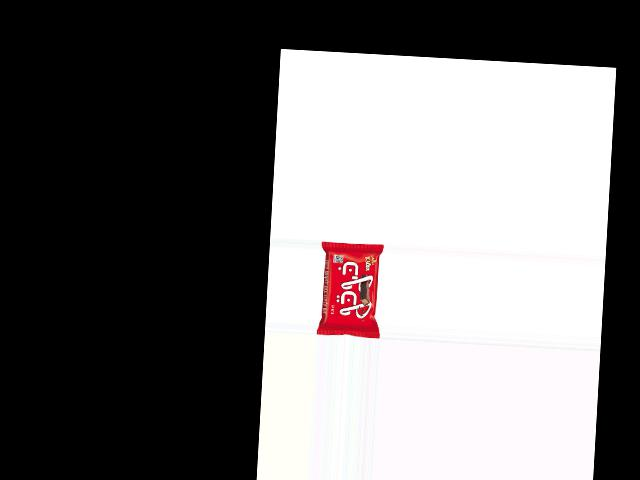chocolate: (315, 241, 384, 337)
